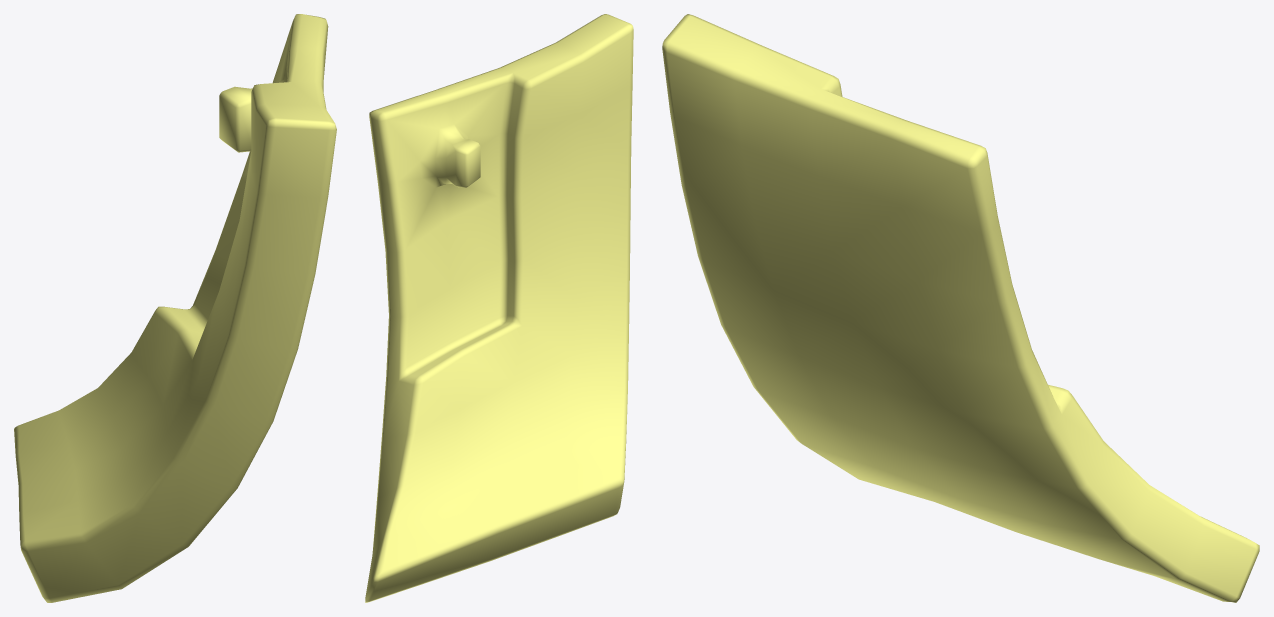
The model's file is Unit_Armor_HelmetL.FBX.
3 views of the same model, side by side, from view 1: azimuth 30°, elevation 25°; view 2: azimuth 150°, elevation 25°; view 3: azimuth 270°, elevation 25° (orthographic). The views are drawn at different scales.
Visible parts, largest first — view 1: Unit_Armor_HelmetL; view 2: Unit_Armor_HelmetL; view 3: Unit_Armor_HelmetL.
Boxes of the visible parts, left/top/right/bottom form: Unit_Armor_HelmetL: left=14, top=14, right=336, bottom=602; Unit_Armor_HelmetL: left=365, top=14, right=633, bottom=602; Unit_Armor_HelmetL: left=662, top=14, right=1259, bottom=602.
Bounding box in the file's own units: 10.43 × 18.08 × 17.58.
